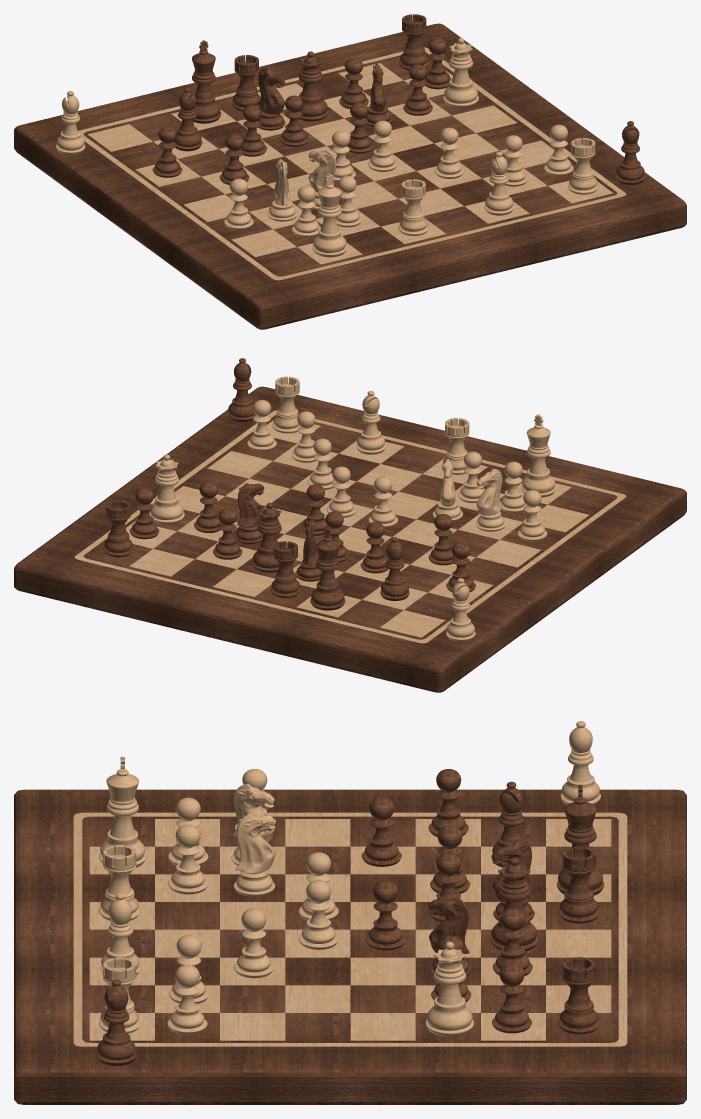
File: wooden_chess_board.glb
The picture shows the model from 3 angles, top to bottom: view 1: azimuth 30°, elevation 25°; view 2: azimuth 150°, elevation 25°; view 3: azimuth 270°, elevation 25°; orthographic projection. The views are drawn at different scales.
Visible parts, largest first — view 1: Chess Board _17, White King_20, Black King_3, White Queen_31, Black Queen _14, Black Knight .001_5, White Rook.001_33, White Rook_32, Black Rook .001_16, Black Rook _15, White Bishop .001_19, Black Bishop .001_2 (+21 smaller); view 2: Chess Board _17, Black King_3, White King_20, White Queen_31, White Knight .001_22, Black Queen _14, Black Knight _4, Black Rook .001_16, Black Rook _15, White Rook.001_33, White Bishop _18, Black Bishop _1 (+21 smaller); view 3: Chess Board _17, White Queen_31, White Knight _21, White King_20, Black Rook .001_16, Black Rook _15, Black Bishop .001_2, Black Queen _14, Black King_3, White Bishop _18, White Rook_32, White Pawn.002_25 (+19 smaller).
Part boxes in pixels (x1,y1,x2,y2): Chess Board _17: (14, 23, 686, 329); White King_20: (312, 174, 347, 257); Black King_3: (192, 40, 221, 123); White Queen_31: (443, 38, 478, 107); Black Queen _14: (298, 51, 328, 121); Black Knight .001_5: (257, 68, 285, 130); White Rook.001_33: (568, 138, 598, 194); White Rook_32: (398, 179, 428, 235); Black Rook .001_16: (399, 14, 429, 70); Black Rook _15: (231, 55, 260, 111); White Bishop .001_19: (484, 151, 513, 215); Black Bishop .001_2: (615, 121, 645, 184); Chess Board _17: (14, 386, 686, 692); Black King_3: (310, 527, 345, 610); White King_20: (521, 414, 556, 497); White Queen_31: (149, 454, 184, 524); White Knight .001_22: (475, 469, 505, 531); Black Queen _14: (251, 502, 281, 572); Black Knight _4: (234, 483, 264, 543); Black Rook .001_16: (103, 500, 133, 557); Black Rook _15: (270, 541, 300, 597); White Rook.001_33: (272, 376, 300, 433); White Bishop _18: (446, 578, 475, 641); Black Bishop _1: (380, 537, 409, 600); Chess Board _17: (14, 789, 686, 1104); White Queen_31: (425, 941, 473, 1036); White Knight _21: (233, 813, 275, 896); White King_20: (99, 756, 146, 867); Black Rook .001_16: (558, 957, 599, 1034); Black Rook _15: (558, 846, 599, 923); Black Bishop .001_2: (96, 979, 136, 1065); Black Queen _14: (490, 857, 538, 951); Black King_3: (556, 784, 604, 895); White Bishop _18: (560, 721, 600, 805); White Rook_32: (99, 844, 140, 920); White Pawn.002_25: (168, 824, 208, 894).
Bounding box in the file's own units: 0.3952 × 0.0898 × 0.3952.
Materials: 2 (2 with a texture image).
